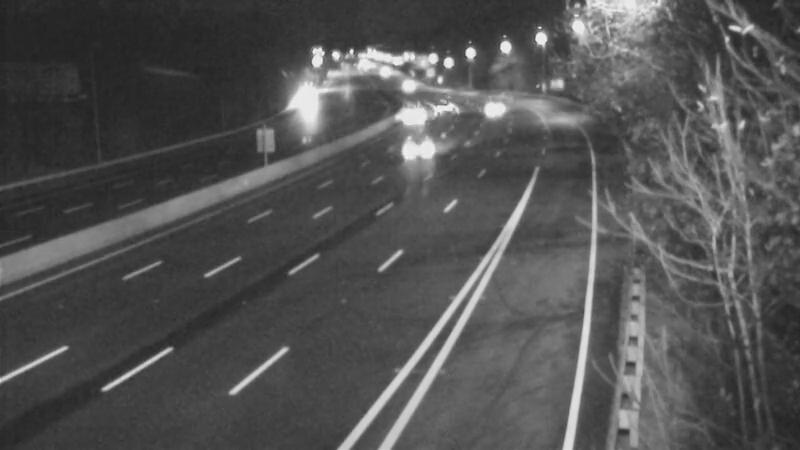vehicle: (384, 60, 434, 110), (472, 80, 522, 130), (416, 81, 466, 131), (390, 91, 440, 141), (395, 125, 445, 175)
